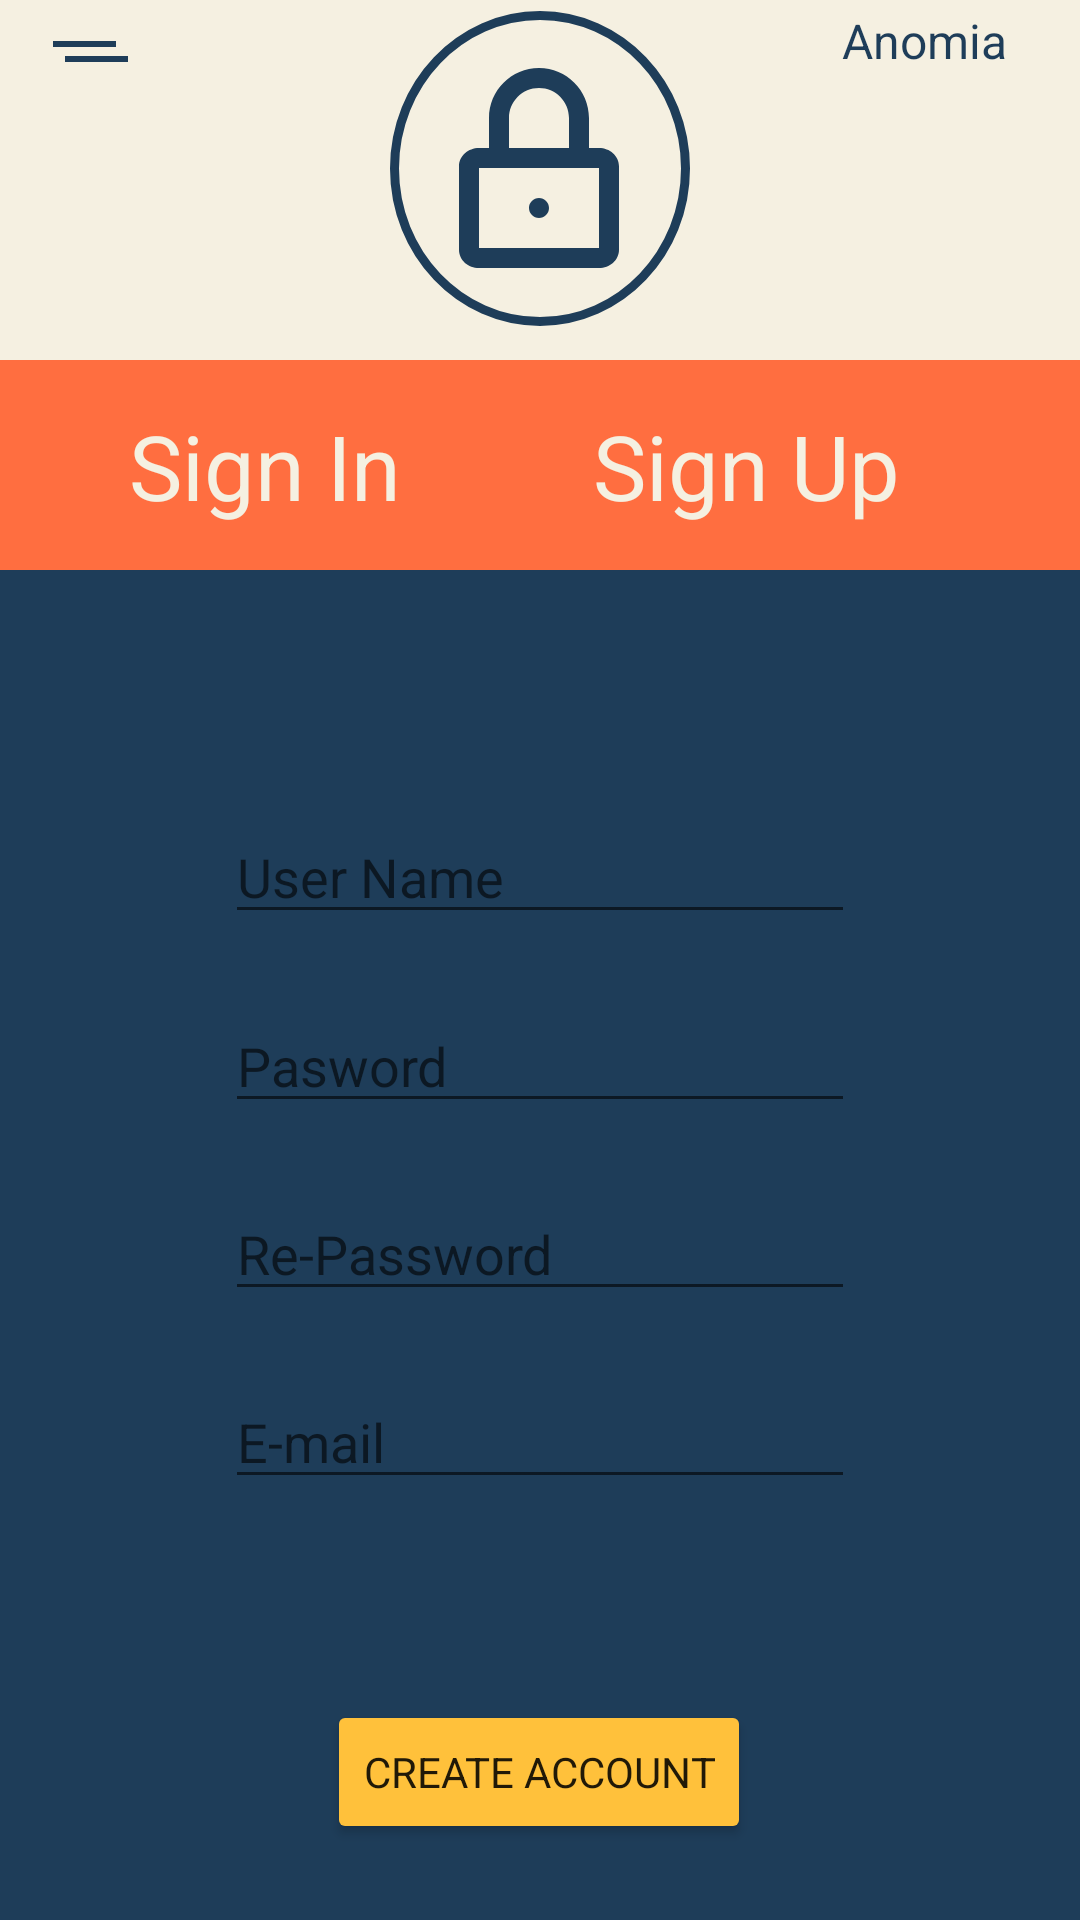

Named icons in this screenshot (1080w x 1920h) and their bounding boxes, box=[x1, y1, x2, y2]:
cadenas: box=[390, 11, 690, 326]
menu: box=[53, 41, 128, 62]
